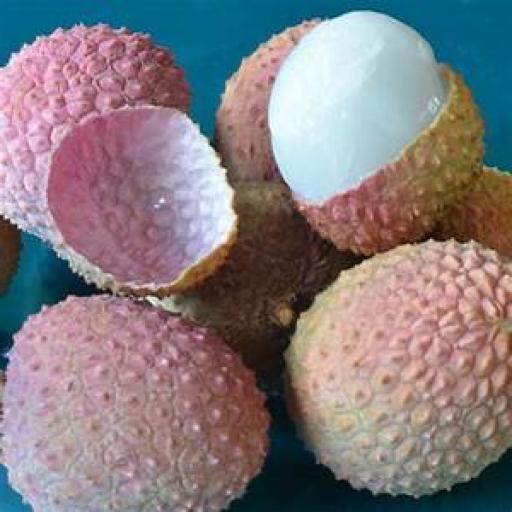lychee: (1, 296, 268, 511), (286, 241, 511, 496), (267, 12, 481, 254), (0, 24, 188, 240), (151, 181, 353, 377), (46, 108, 236, 295), (215, 21, 318, 180), (435, 168, 511, 257), (0, 217, 19, 295)
